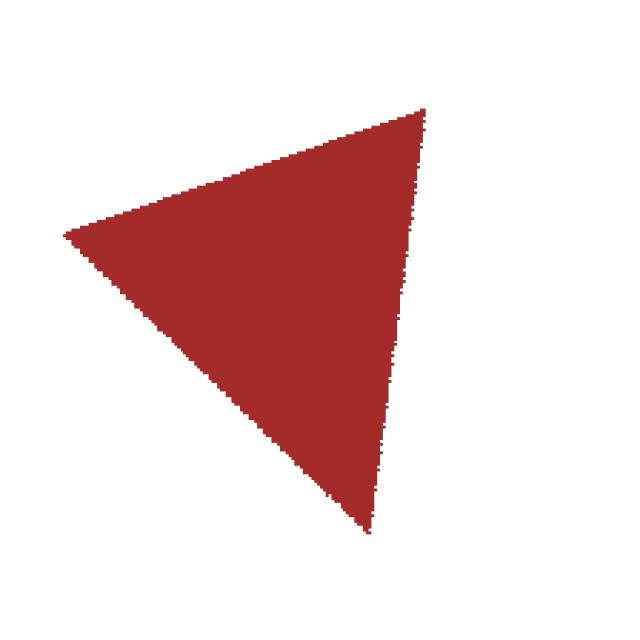Triangle: (59, 50, 482, 574)
